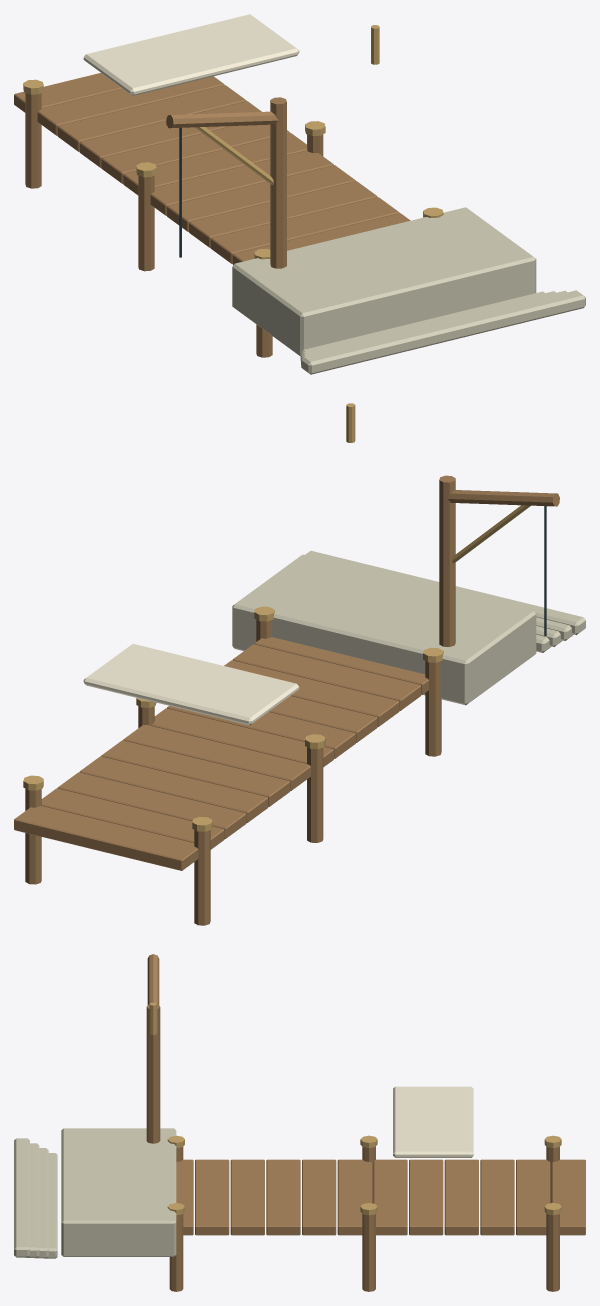
The model's file is level_26.glb.
3 renders of one model, top to bottom at view 1: azimuth 30°, elevation 25°; view 2: azimuth 150°, elevation 25°; view 3: azimuth 270°, elevation 25°, orthographic. The views are drawn at different scales.
Parts seen in each view (by area): view 1: dock — level 26; view 2: dock — level 26; view 3: dock — level 26.
Part boxes in pixels (x1,y1,x2,y2): dock — level 26: [14, 14, 585, 374]; dock — level 26: [14, 403, 585, 925]; dock — level 26: [14, 954, 585, 1291].
Size of the model in its own units: 5.45 by 4.91 by 9.93.
